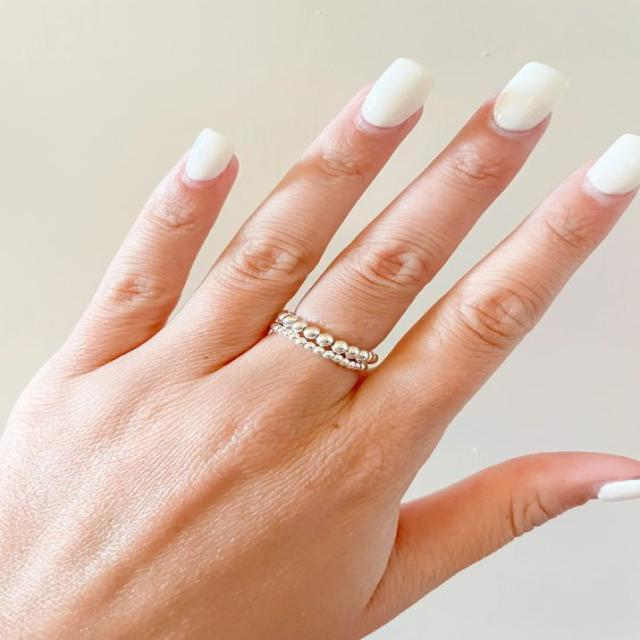Fingernail: (361, 57, 436, 128), (494, 63, 570, 133), (587, 133, 639, 195), (185, 127, 233, 181), (599, 480, 639, 503)
